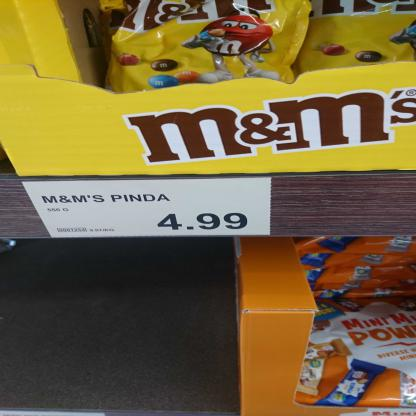prtg: (21, 178, 273, 241)
